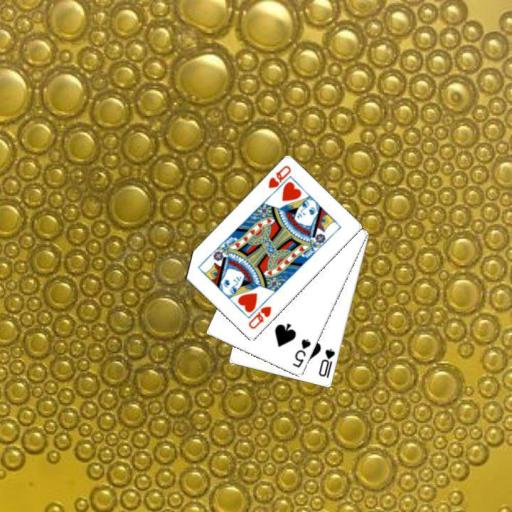10S: (316, 346, 336, 380)
5S: (289, 336, 313, 370)
QH: (265, 162, 293, 198), (245, 304, 273, 331)
